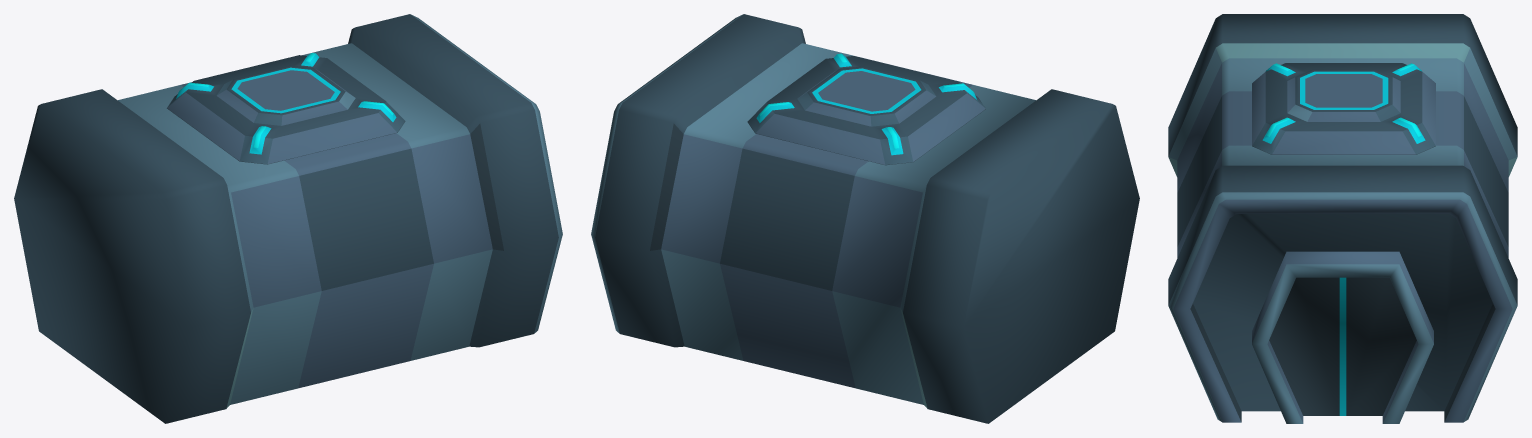
Rendered from Buildings_3.fbx.
3 renders of one model, left to right at view 1: azimuth 30°, elevation 25°; view 2: azimuth 150°, elevation 25°; view 3: azimuth 270°, elevation 25°, orthographic.
Parts seen in each view (by area): view 1: Buildings.002; view 2: Buildings.002; view 3: Buildings.002.
Part boxes in pixels (box(x1,y1,x2,y2)): Buildings.002: box(14, 14, 562, 423); Buildings.002: box(591, 14, 1139, 423); Buildings.002: box(1168, 14, 1517, 423).
Bounding box in the file's own units: 548 × 442 × 335.
